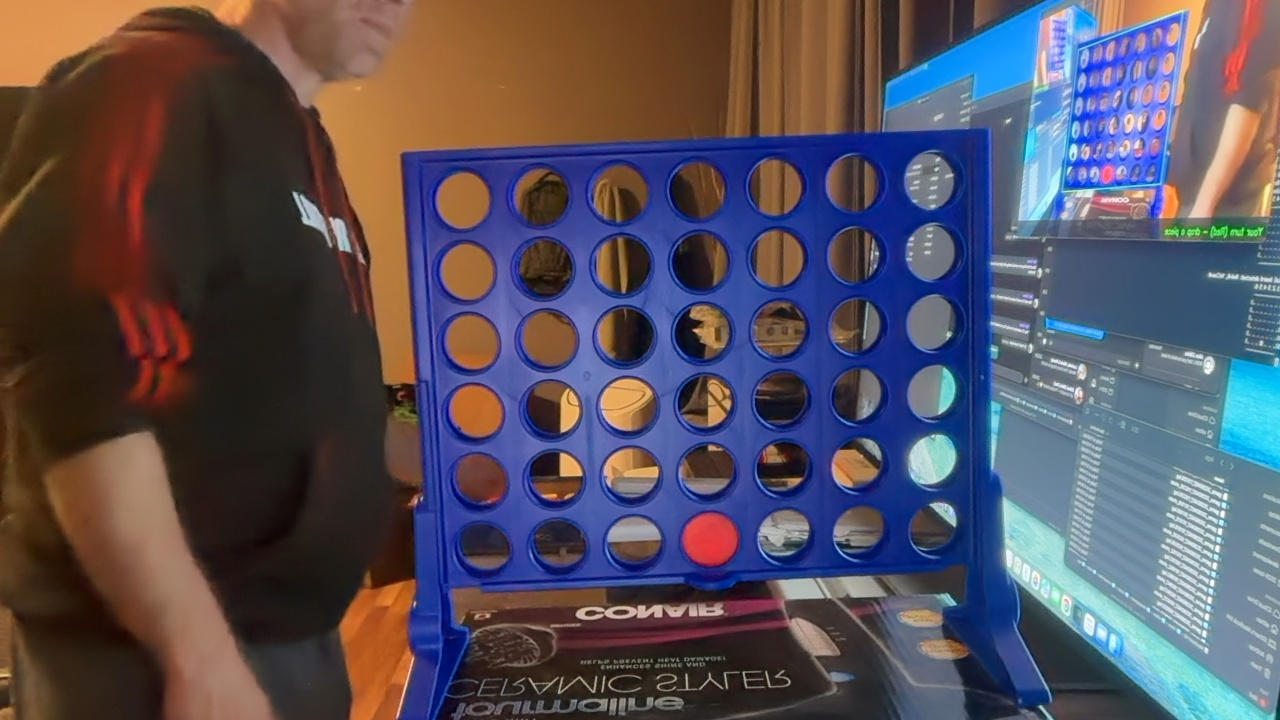red piece: (681, 512, 739, 567)
